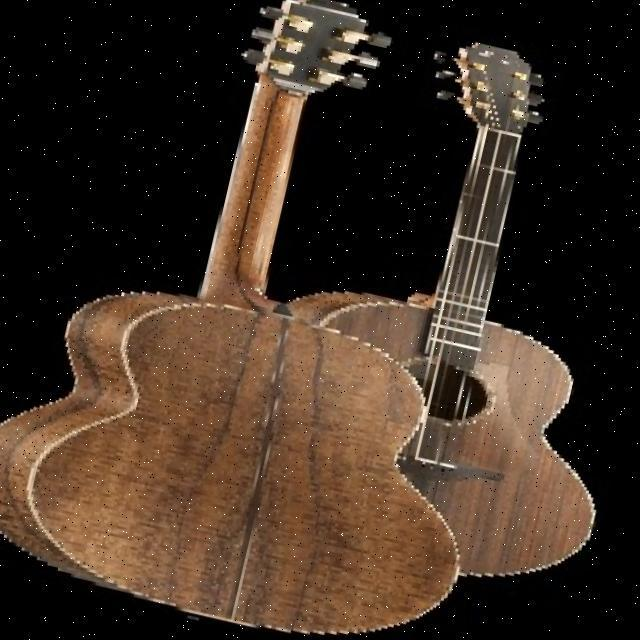acousticguitar: (0, 0, 457, 631), (289, 44, 593, 574)
